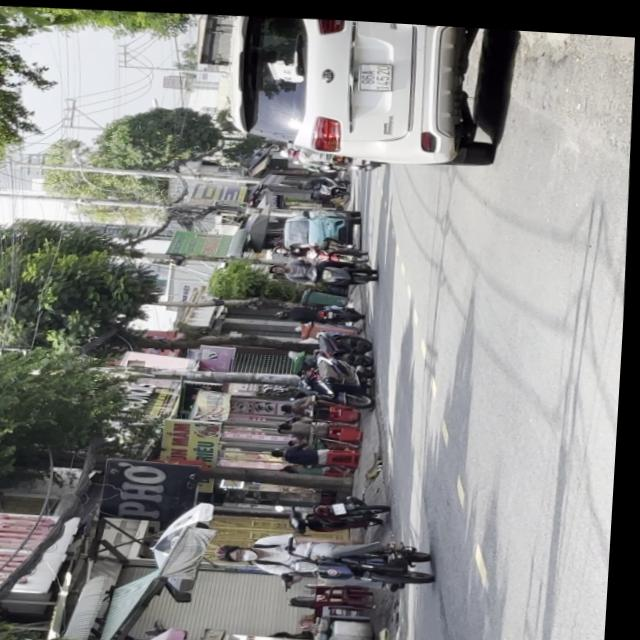helmet: (222, 541, 263, 561)
licenseplate: (219, 523, 441, 591)
